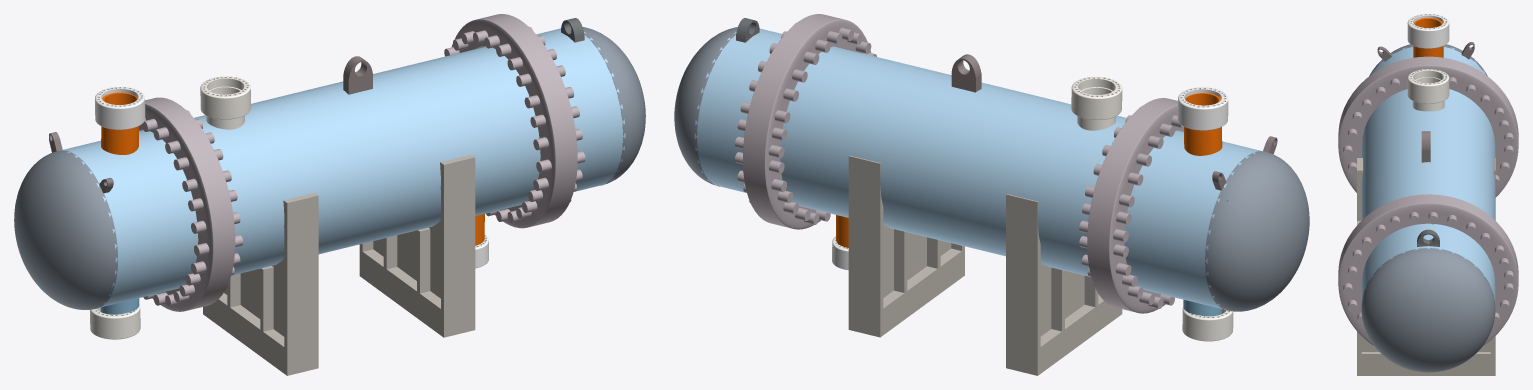
The model's file is trocador de calor.glb.
The picture shows the model from 3 angles, left to right: view 1: azimuth 30°, elevation 25°; view 2: azimuth 150°, elevation 25°; view 3: azimuth 270°, elevation 25°; orthographic projection. The views are drawn at different scales.
Visible parts, largest first — view 1: Body19, Body1, Body12, Body14, Body15, Body11, Body3, Body20, Body17, Body18, Body4, Body13; view 2: Body19, Body1, Body12, Body15, Body14, Body11, Body3, Body20, Body17, Body18, Body4, Body13; view 3: Body19, Body3, Body15, Body11, Body12, Body20, Body17, Body4, Body14, Body13, Body7, Body1.
Boxes of the visible parts, x1,y1,x2,y2 form: Body19: [60, 28, 625, 308]; Body1: [14, 150, 117, 309]; Body12: [359, 154, 475, 337]; Body14: [203, 193, 318, 375]; Body15: [444, 14, 585, 228]; Body11: [139, 97, 243, 311]; Body3: [582, 27, 645, 185]; Body20: [200, 76, 250, 129]; Body17: [95, 87, 145, 129]; Body18: [90, 305, 140, 339]; Body4: [101, 92, 139, 154]; Body13: [343, 56, 372, 94]; Body19: [694, 28, 1263, 309]; Body1: [1205, 151, 1309, 311]; Body12: [848, 155, 964, 337]; Body15: [735, 14, 876, 229]; Body14: [1006, 194, 1122, 375]; Body11: [1079, 98, 1183, 313]; Body3: [674, 27, 737, 186]; Body20: [1071, 77, 1122, 130]; Body17: [1177, 87, 1228, 130]; Body18: [1182, 307, 1233, 341]; Body4: [1184, 93, 1222, 155]; Body13: [951, 54, 981, 92]; Body19: [1361, 47, 1495, 321]; Body3: [1361, 248, 1495, 372]; Body15: [1338, 194, 1518, 345]; Body11: [1338, 56, 1518, 197]; Body12: [1357, 221, 1495, 375]; Body20: [1407, 69, 1449, 111]; Body17: [1407, 14, 1449, 48]; Body4: [1413, 18, 1443, 57]; Body14: [1357, 158, 1495, 220]; Body13: [1421, 131, 1430, 162]; Body7: [1417, 229, 1439, 246]; Body1: [1369, 44, 1487, 75].
Size of the model in its own units: 124 by 54.64 by 39.
